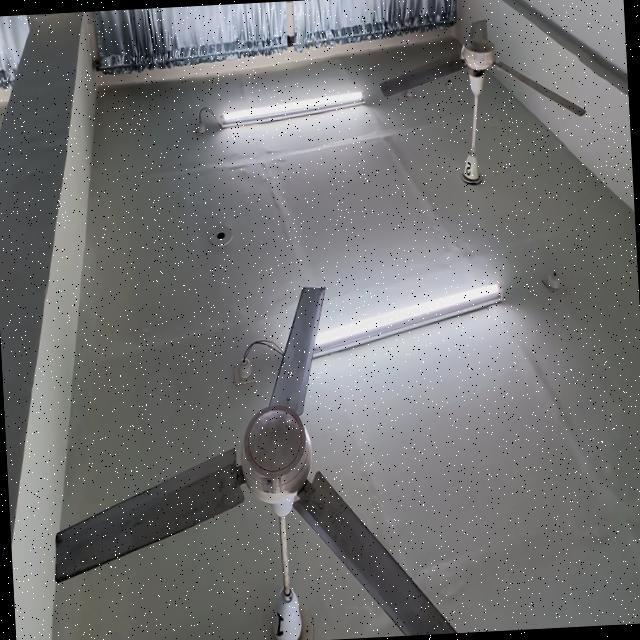Light: (316, 284, 503, 356), (220, 92, 365, 128)
